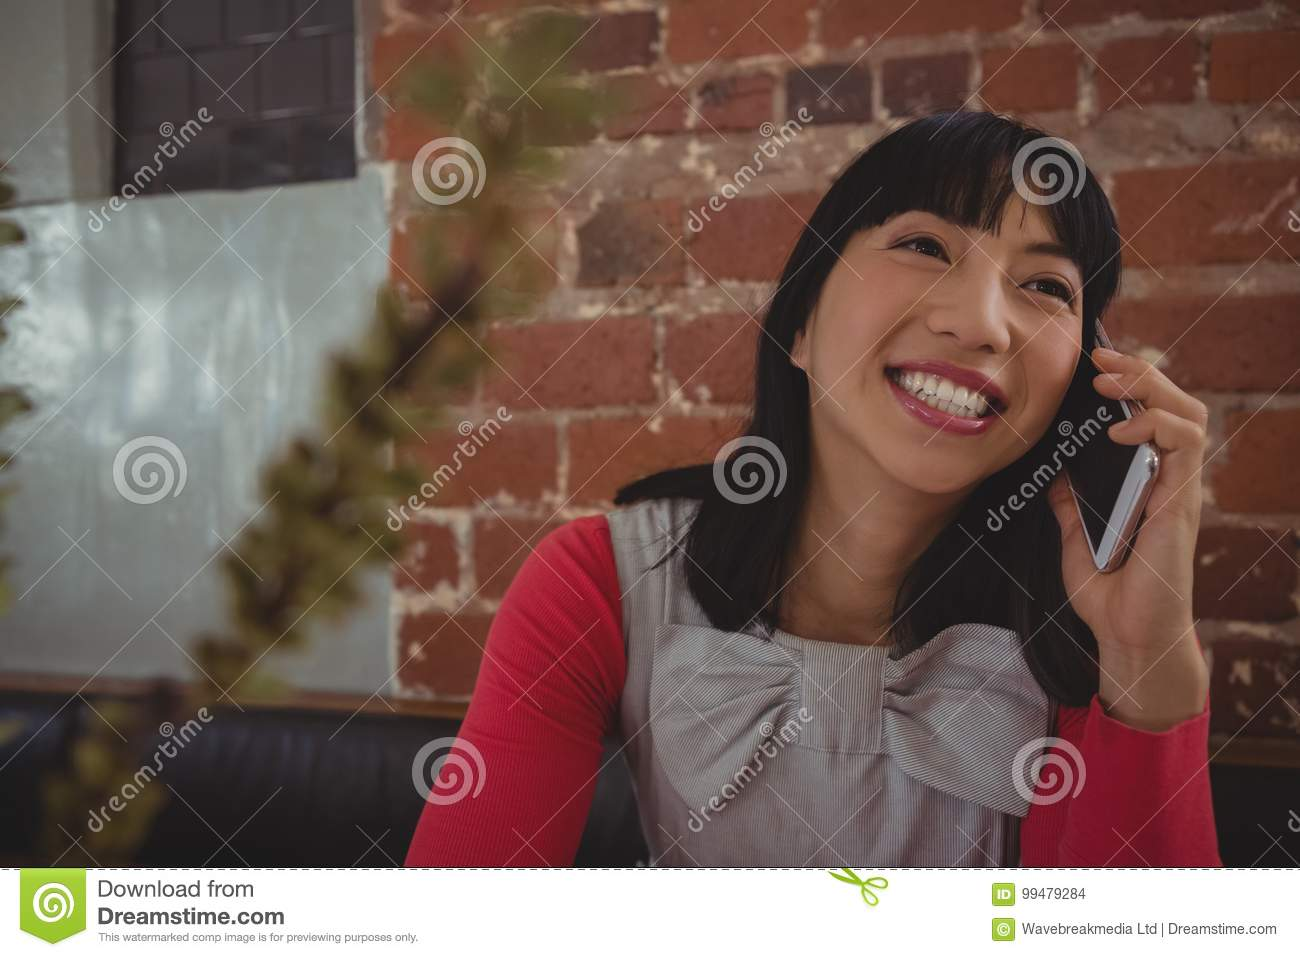phone: (1057, 305, 1163, 580)
talk: (810, 206, 1211, 693)
